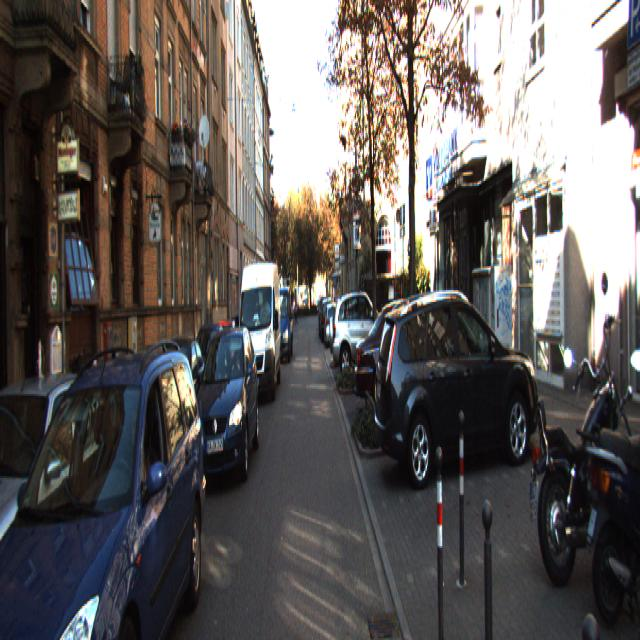Car: (0, 330, 205, 638), (373, 279, 542, 492), (0, 359, 104, 638), (354, 301, 465, 427), (187, 324, 259, 504), (140, 337, 207, 481), (329, 288, 395, 378), (324, 304, 340, 352)
Misc: (524, 311, 639, 593), (579, 331, 639, 638)
Van: (235, 257, 281, 411), (267, 286, 295, 367)
